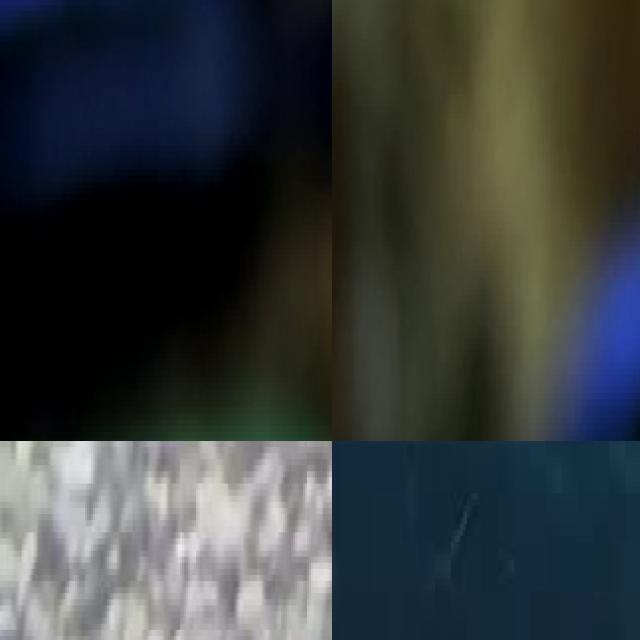fish: (0, 0, 332, 441), (555, 0, 640, 441)
